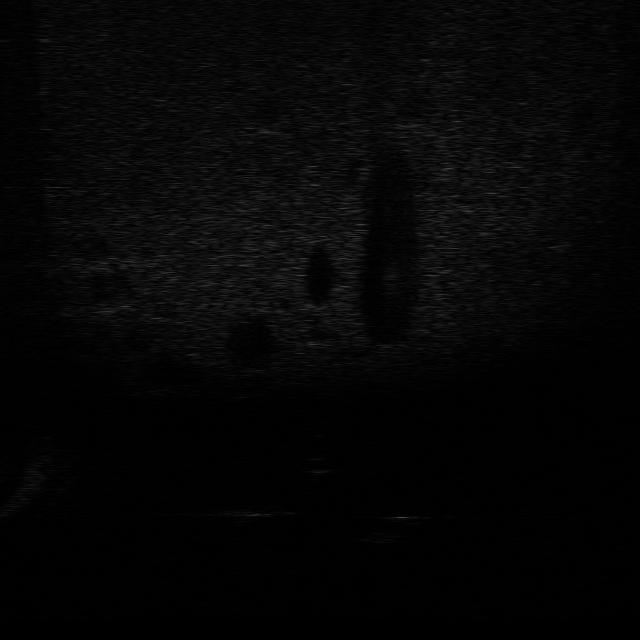ball: (295, 448, 343, 479)
square cage: (218, 502, 284, 527)
tyre: (352, 508, 420, 547)
